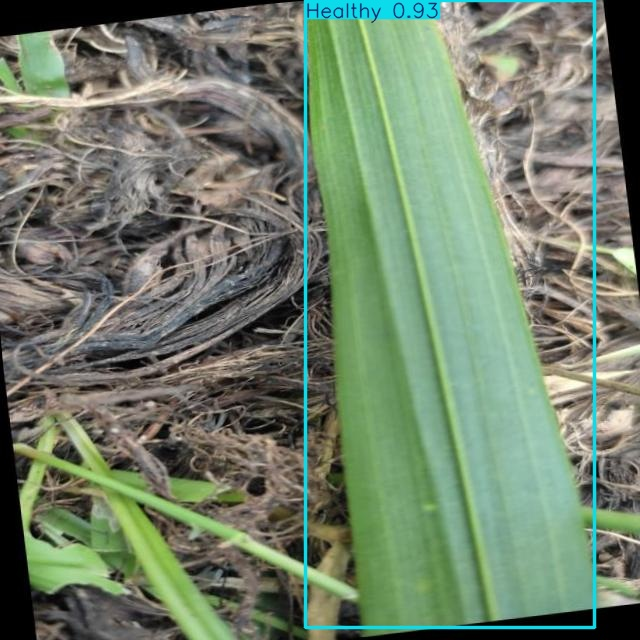Healthy: (306, 0, 594, 627)
